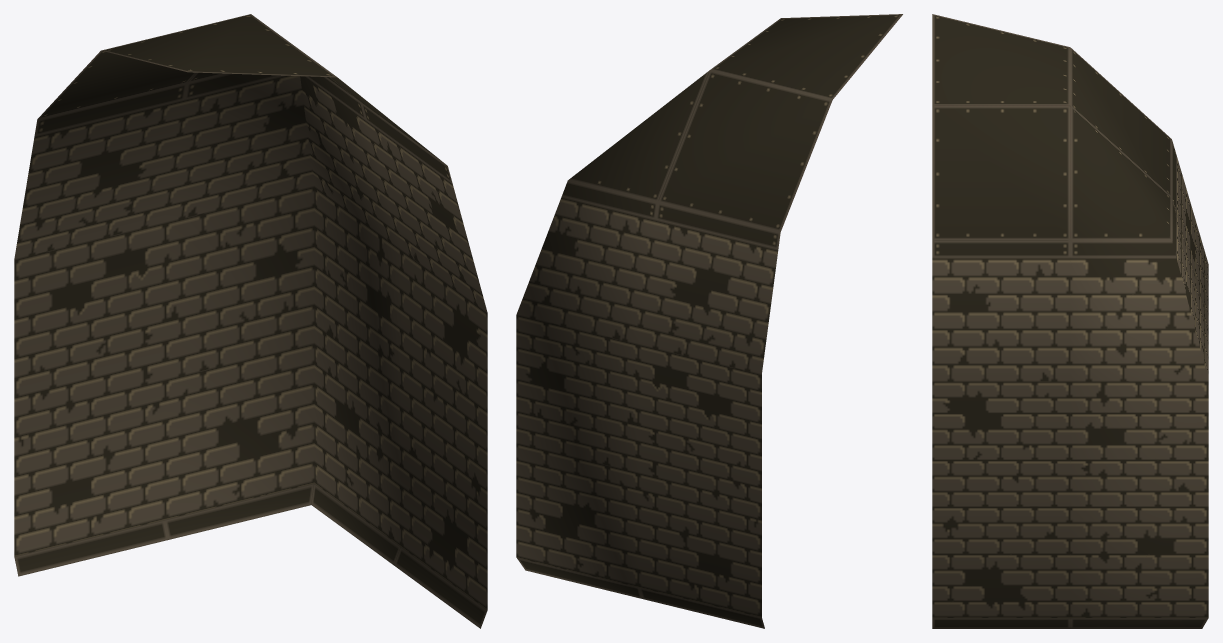
File: Corner.fbx
The picture shows the model from 3 angles, left to right: view 1: azimuth 30°, elevation 25°; view 2: azimuth 150°, elevation 25°; view 3: azimuth 270°, elevation 25°; orthographic projection. The views are drawn at different scales.
Visible parts, largest first — view 1: Corner.01; view 2: Corner.01; view 3: Corner.01.
Part boxes in pixels (x1,y1,x2,y2): Corner.01: (14,14,487,628); Corner.01: (516,14,902,628); Corner.01: (932,14,1208,628).
Bounding box in the file's own units: 400 × 800 × 400.
